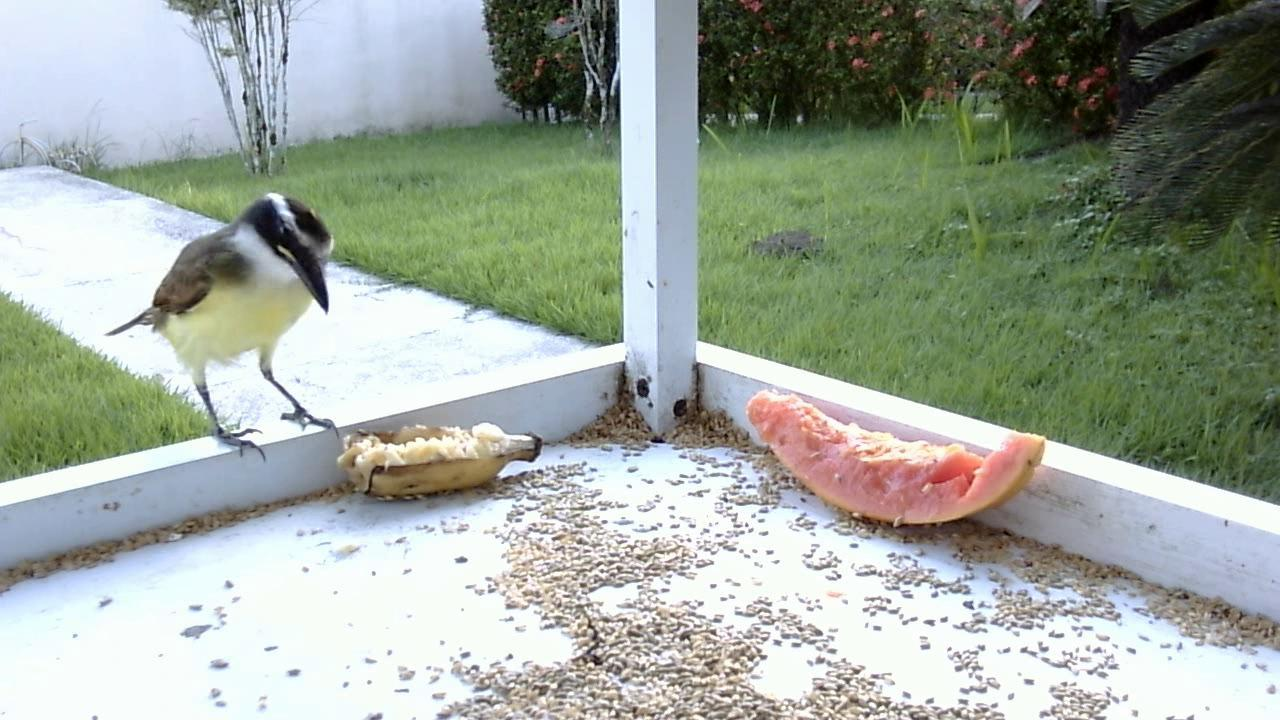bem_te_vi: (98, 177, 341, 475)
